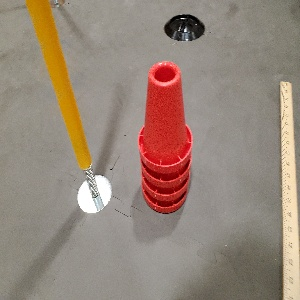Red_4: (135, 56, 194, 215)
